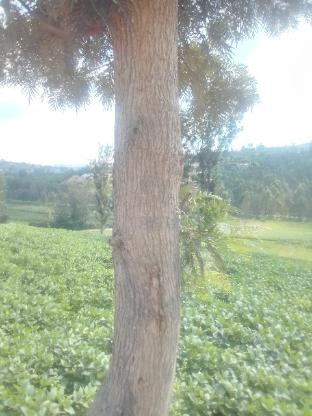tree: (93, 0, 191, 416)
